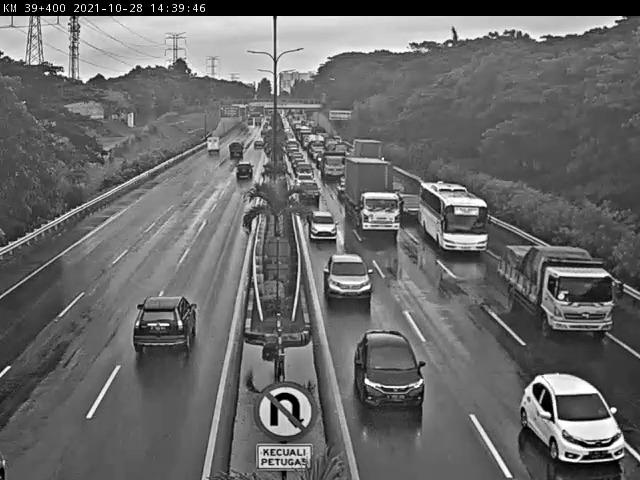big bus: (416, 172, 487, 259)
big truck: (340, 153, 400, 231), (348, 133, 385, 165)
car: (514, 368, 631, 474), (349, 320, 429, 412), (125, 289, 207, 361), (320, 250, 372, 302), (306, 208, 338, 241), (396, 190, 426, 224), (296, 178, 322, 205), (233, 160, 256, 182), (225, 140, 247, 162), (292, 168, 314, 186), (293, 157, 315, 172), (250, 140, 264, 152)
mid truck: (493, 239, 622, 344), (313, 147, 347, 179)
small truck: (203, 134, 223, 158)
